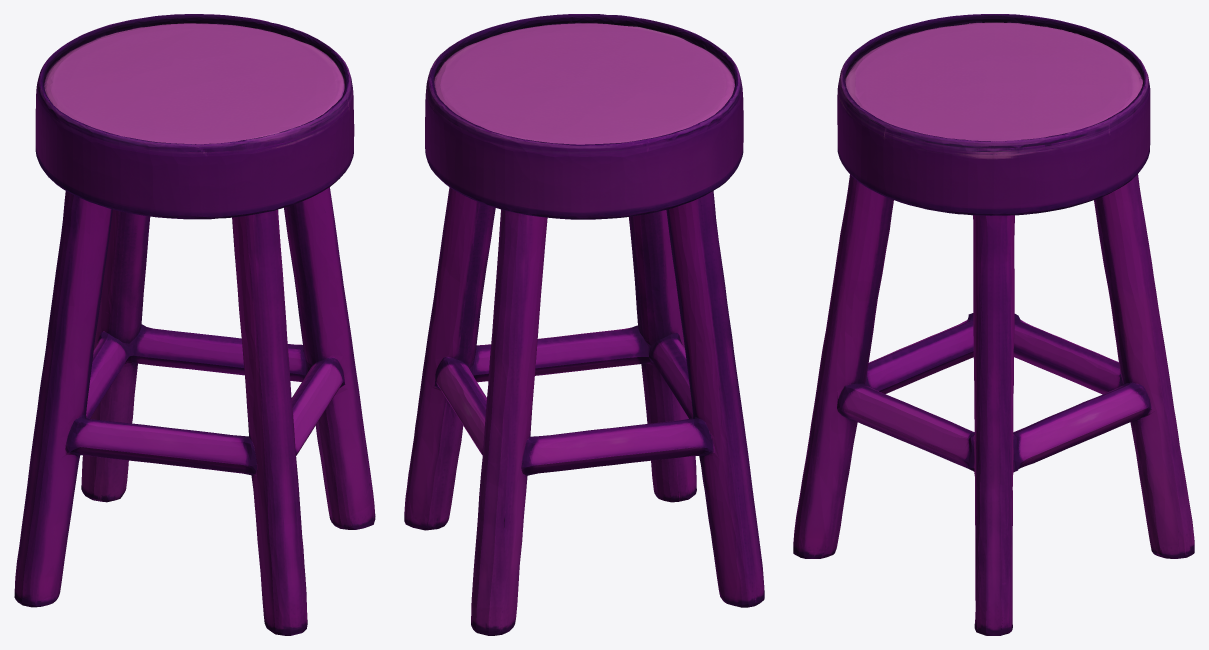
The picture shows the model from 3 angles, left to right: view 1: azimuth 30°, elevation 25°; view 2: azimuth 150°, elevation 25°; view 3: azimuth 270°, elevation 25°; orthographic projection.
Visible parts, largest first — view 1: world; view 2: world; view 3: world.
Part boxes in pixels (<box>): world: <box>14,14,375,635</box>; world: <box>404,14,764,635</box>; world: <box>793,14,1194,635</box>.
Size of the model in its own units: 76.7 by 99.84 by 76.6.
Materials: 1 (1 with a texture image).
